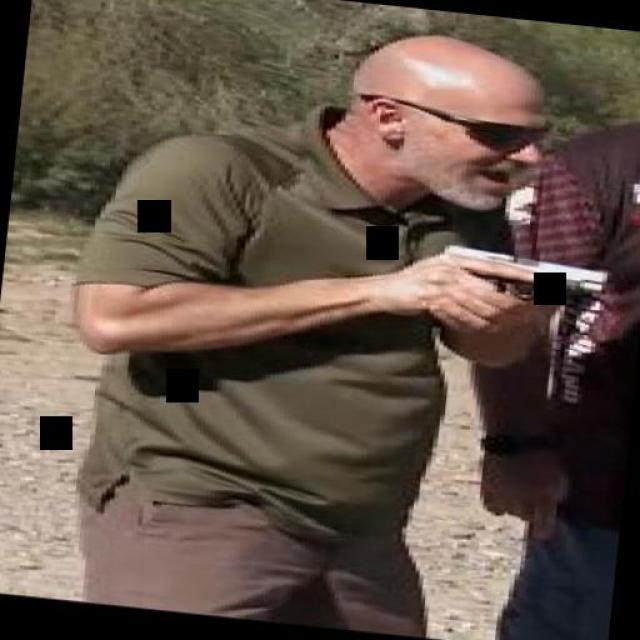gun: (416, 238, 610, 340)
